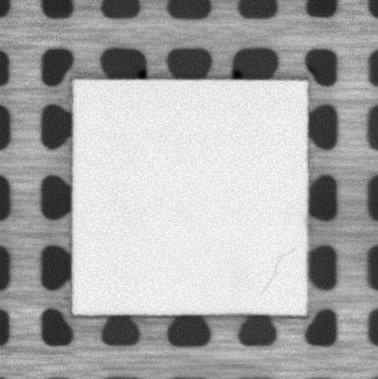DIE_CRACK: (261, 246, 297, 292)
